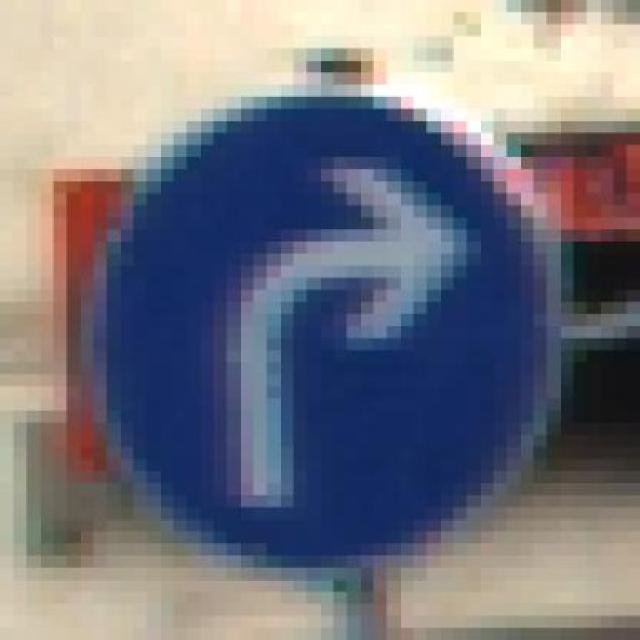Turn right ahead: (89, 97, 569, 568)
